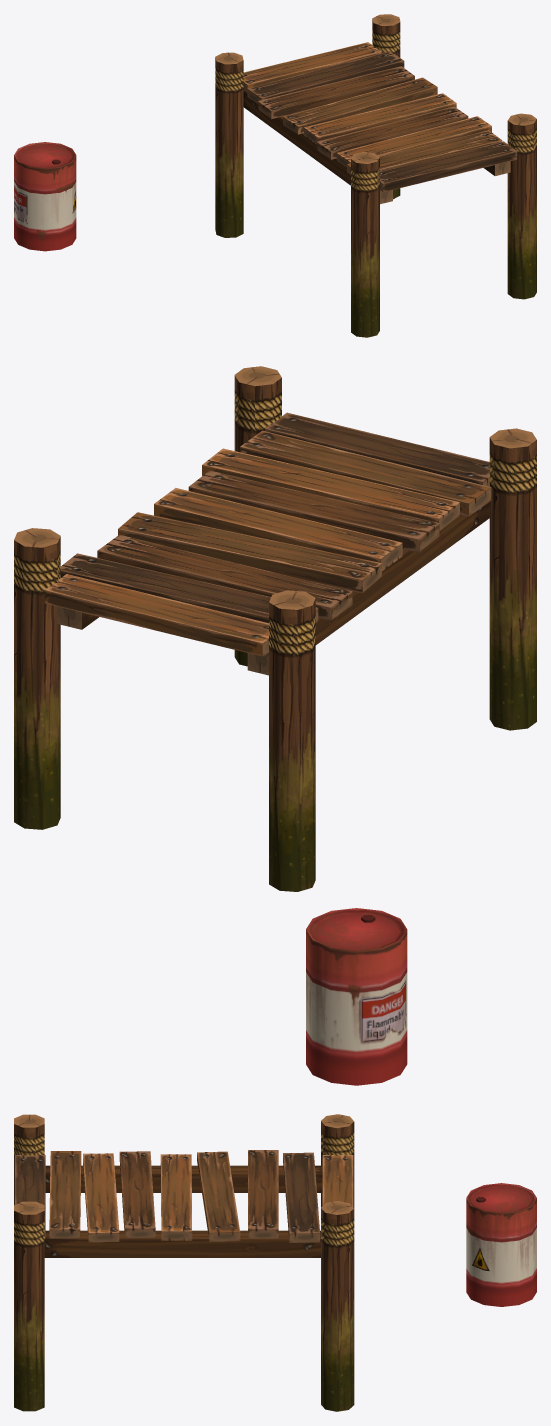
The picture shows the model from 3 angles, top to bottom: view 1: azimuth 30°, elevation 25°; view 2: azimuth 150°, elevation 25°; view 3: azimuth 270°, elevation 25°; orthographic projection. The views are drawn at different scales.
Visible parts, largest first — view 1: pier_end_A, barrel01_A; view 2: pier_end_A, barrel01_A; view 3: pier_end_A, barrel01_A.
Part boxes in pixels (x1,y1,x2,y2): pier_end_A: (215,14,536,337); barrel01_A: (14,142,76,251); pier_end_A: (14,366,536,891); barrel01_A: (306,908,407,1085); pier_end_A: (14,1114,354,1411); barrel01_A: (466,1183,536,1306).
Bounding box in the file's own units: 3.93 × 2.5 × 5.09.
2 materials, 2 textured.
